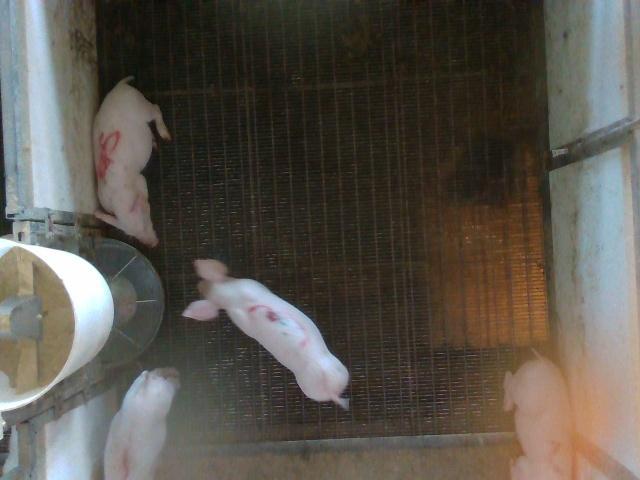pig-1: (104, 368, 180, 479)
pig-2: (504, 352, 571, 479)
pig-3: (182, 259, 349, 408)
pig-5: (94, 76, 171, 246)
